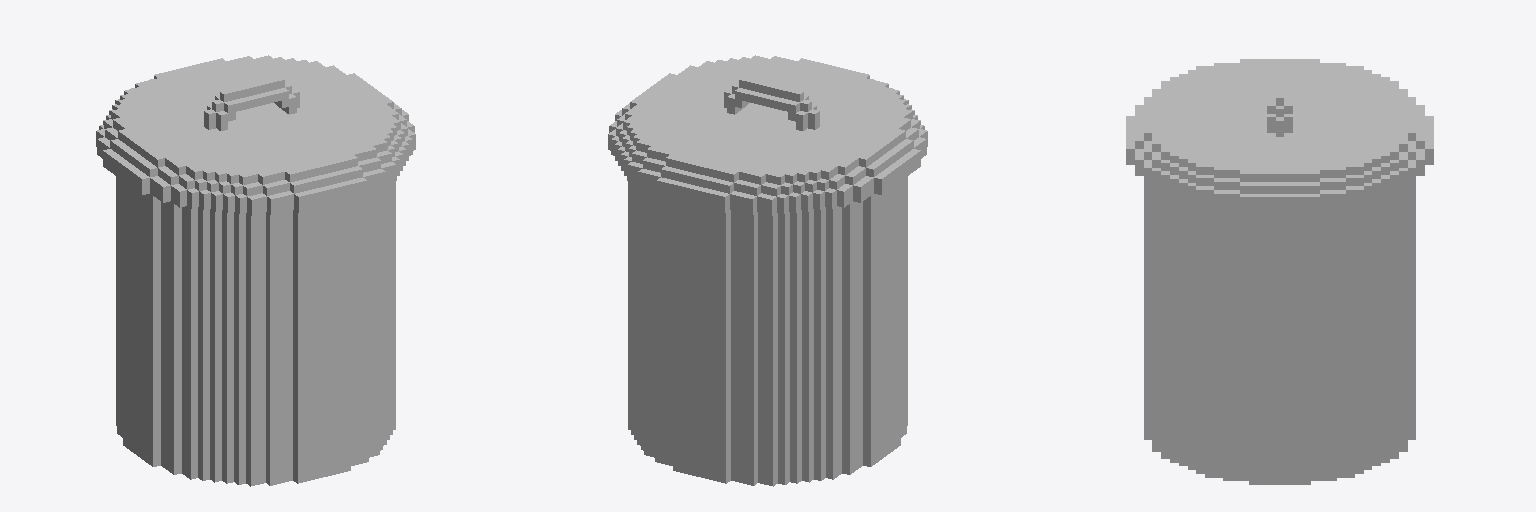
The model's file is TrashCan.obj.
The picture shows the model from 3 angles: view 1: azimuth 30°, elevation 25°; view 2: azimuth 150°, elevation 25°; view 3: azimuth 270°, elevation 25°; orthographic projection.
Size of the model in its own units: 35 by 43 by 35.